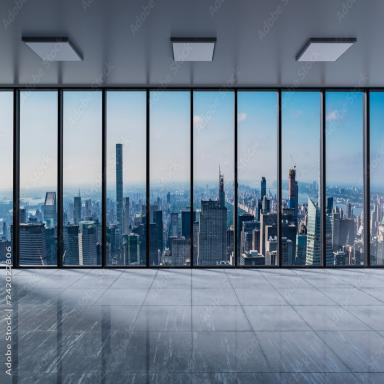glass_panel: (307, 92, 364, 266), (228, 92, 278, 266), (11, 91, 58, 265), (149, 91, 191, 265), (60, 91, 102, 265), (193, 91, 234, 267), (106, 91, 146, 266), (281, 92, 321, 266), (369, 92, 384, 266), (0, 91, 13, 266)
